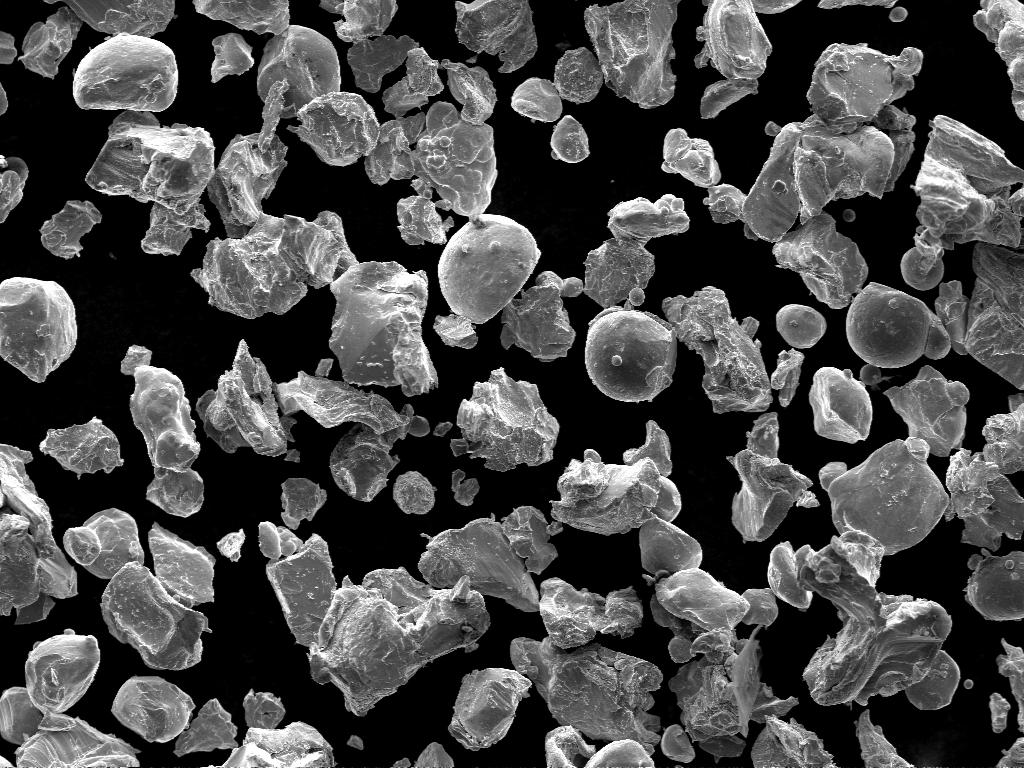Powder: (641, 528, 797, 761), (901, 115, 1023, 289), (365, 102, 496, 244), (191, 211, 356, 318), (819, 437, 948, 554), (551, 420, 680, 534), (434, 214, 540, 347), (121, 345, 203, 516), (662, 287, 772, 412), (945, 394, 1023, 550), (728, 412, 818, 540), (451, 368, 558, 470), (584, 0, 676, 108), (773, 213, 867, 308), (695, 0, 771, 117), (222, 690, 334, 767), (585, 307, 676, 401), (73, 34, 177, 111), (0, 277, 76, 381), (884, 366, 968, 456), (25, 630, 99, 731), (501, 271, 583, 360), (540, 578, 642, 648), (15, 712, 138, 767), (448, 668, 530, 750), (288, 92, 379, 165), (973, 0, 1023, 119), (455, 0, 536, 72), (63, 508, 143, 578), (111, 676, 194, 742), (39, 418, 122, 478), (809, 367, 871, 442), (18, 6, 81, 77), (751, 716, 835, 767), (382, 48, 442, 117), (965, 549, 1023, 620), (347, 35, 417, 92), (65, 0, 174, 36), (175, 698, 237, 755), (441, 59, 496, 123), (40, 201, 100, 258), (193, 0, 288, 34), (320, 0, 396, 41), (146, 467, 203, 516), (554, 47, 603, 103), (935, 281, 968, 354), (0, 687, 42, 744), (281, 478, 326, 529), (700, 78, 757, 118), (511, 77, 562, 121), (776, 304, 826, 348), (211, 33, 253, 81), (545, 726, 594, 767), (771, 349, 803, 406), (393, 471, 435, 514), (550, 115, 588, 162), (393, 742, 453, 767), (433, 314, 477, 348), (452, 469, 478, 505), (217, 529, 245, 561), (989, 693, 1010, 732), (996, 737, 1023, 767), (751, 0, 799, 13), (285, 450, 298, 461), (393, 758, 408, 766), (283, 513, 288, 521), (861, 377, 862, 378), (1022, 245, 1023, 246)
